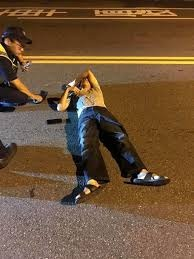falling: (45, 60, 171, 203)
